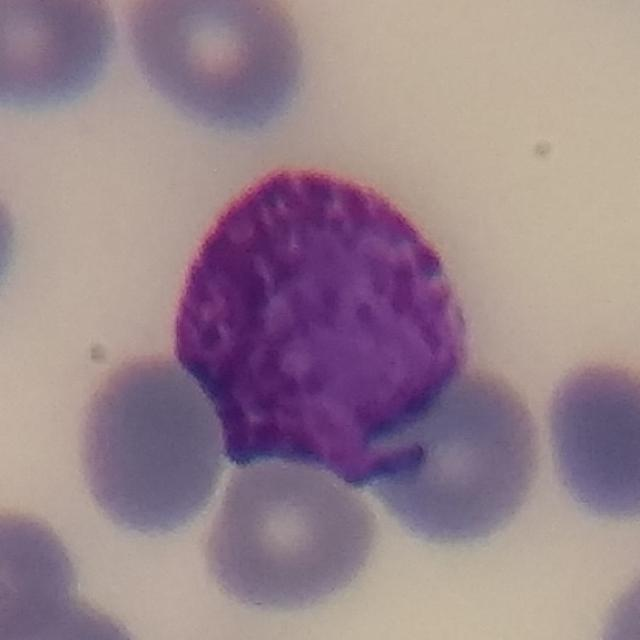Basophil: (146, 156, 467, 479)
RBC: (357, 356, 552, 552), (197, 441, 386, 618), (68, 350, 236, 543), (118, 0, 313, 136), (534, 349, 640, 530), (0, 0, 124, 117), (0, 502, 83, 636), (1, 579, 153, 640), (589, 555, 640, 640), (0, 166, 26, 323)
